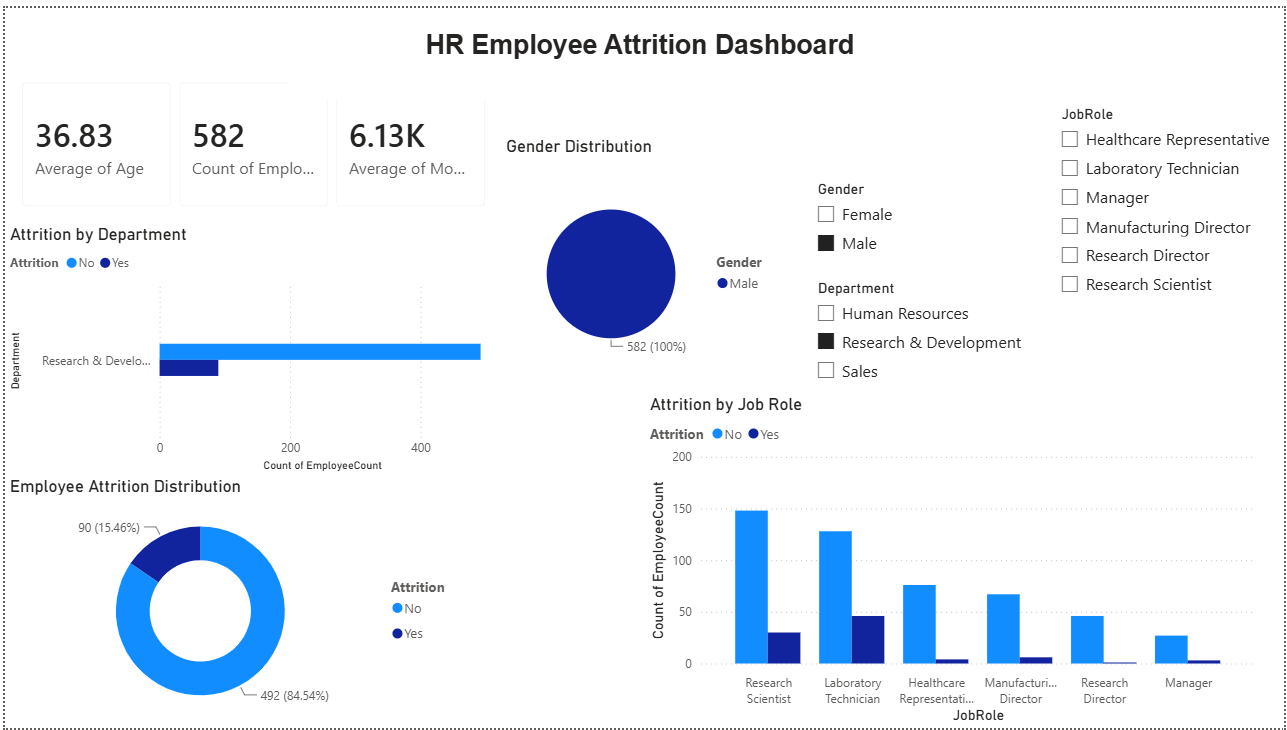

This screenshot's page, from the dashboard's own definition file:
{"tool":"powerbi","page":{"name":"Page 1","canvas":[1280,720],"ordinal":0},"visuals":[{"type":"donutChart","title":"Employee Attrition Distribution","fields":{"Category":["WA_Fn-UseC_-HR-Employee-Attrition.Attrition"],"Y":["CountNonNull(WA_Fn-UseC_-HR-Employee-Attrition.EmployeeCount)"]},"box":[0,468,462,252],"z":0},{"type":"cardVisual","fields":{"Data":["Avg(WA_Fn-UseC_-HR-Employee-Attrition.Age)","CountNonNull(WA_Fn-UseC_-HR-Employee-Attrition.EmployeeCount)","Avg(WA_Fn-UseC_-HR-Employee-Attrition.MonthlyIncome)"]},"box":[0,58,498,158],"z":1000},{"type":"clusteredBarChart","title":"Attrition by Department","fields":{"Category":["WA_Fn-UseC_-HR-Employee-Attrition.Department"],"Y":["CountNonNull(WA_Fn-UseC_-HR-Employee-Attrition.EmployeeCount)"],"Series":["WA_Fn-UseC_-HR-Employee-Attrition.Attrition"]},"box":[0,216,496,252],"z":2000},{"type":"clusteredColumnChart","title":"Attrition by Job Role","fields":{"Category":["WA_Fn-UseC_-HR-Employee-Attrition.JobRole"],"Y":["CountNonNull(WA_Fn-UseC_-HR-Employee-Attrition.EmployeeCount)"],"Series":["WA_Fn-UseC_-HR-Employee-Attrition.Attrition"]},"box":[640,386,616,334],"z":3000},{"type":"pieChart","title":"Gender Distribution","fields":{"Category":["WA_Fn-UseC_-HR-Employee-Attrition.Gender"],"Y":["CountNonNull(WA_Fn-UseC_-HR-Employee-Attrition.EmployeeCount)"]},"box":[496,128,286,258],"z":4000},{"type":"slicer","fields":{"Values":["WA_Fn-UseC_-HR-Employee-Attrition.Department"]},"box":[800,266,234,120],"z":5000},{"type":"slicer","fields":{"Values":["WA_Fn-UseC_-HR-Employee-Attrition.Gender"]},"box":[800,168,186,90],"z":6000},{"type":"slicer","fields":{"Values":["WA_Fn-UseC_-HR-Employee-Attrition.JobRole"]},"box":[1044,92,236,294],"z":7000},{"type":"textbox","box":[284,18,702,74],"z":7001},{"type":"textbox","box":[496,468,150,252],"z":7002}]}

Visuals, with their boxes in screenshot pixels (x1, y1, x2, y2), scaled from the page's 1280x720 canvas onto the 1287x730 screenshot:
"Employee Attrition Distribution" donutChart: 0/474/465/729
cardVisual - Avg(WA_Fn-UseC_-HR-Employee-Attrition.Age) x CountNonNull(WA_Fn-UseC_-HR-Employee-Attrition.EmployeeCount): 0/59/501/219
"Attrition by Department" clusteredBarChart: 0/219/499/474
"Attrition by Job Role" clusteredColumnChart: 644/391/1263/729
"Gender Distribution" pieChart: 499/130/786/391
slicer - WA_Fn-UseC_-HR-Employee-Attrition.Department: 804/270/1040/391
slicer - WA_Fn-UseC_-HR-Employee-Attrition.Gender: 804/170/991/262
slicer - WA_Fn-UseC_-HR-Employee-Attrition.JobRole: 1050/93/1286/391
textbox: 286/18/991/93
textbox: 499/474/650/729
